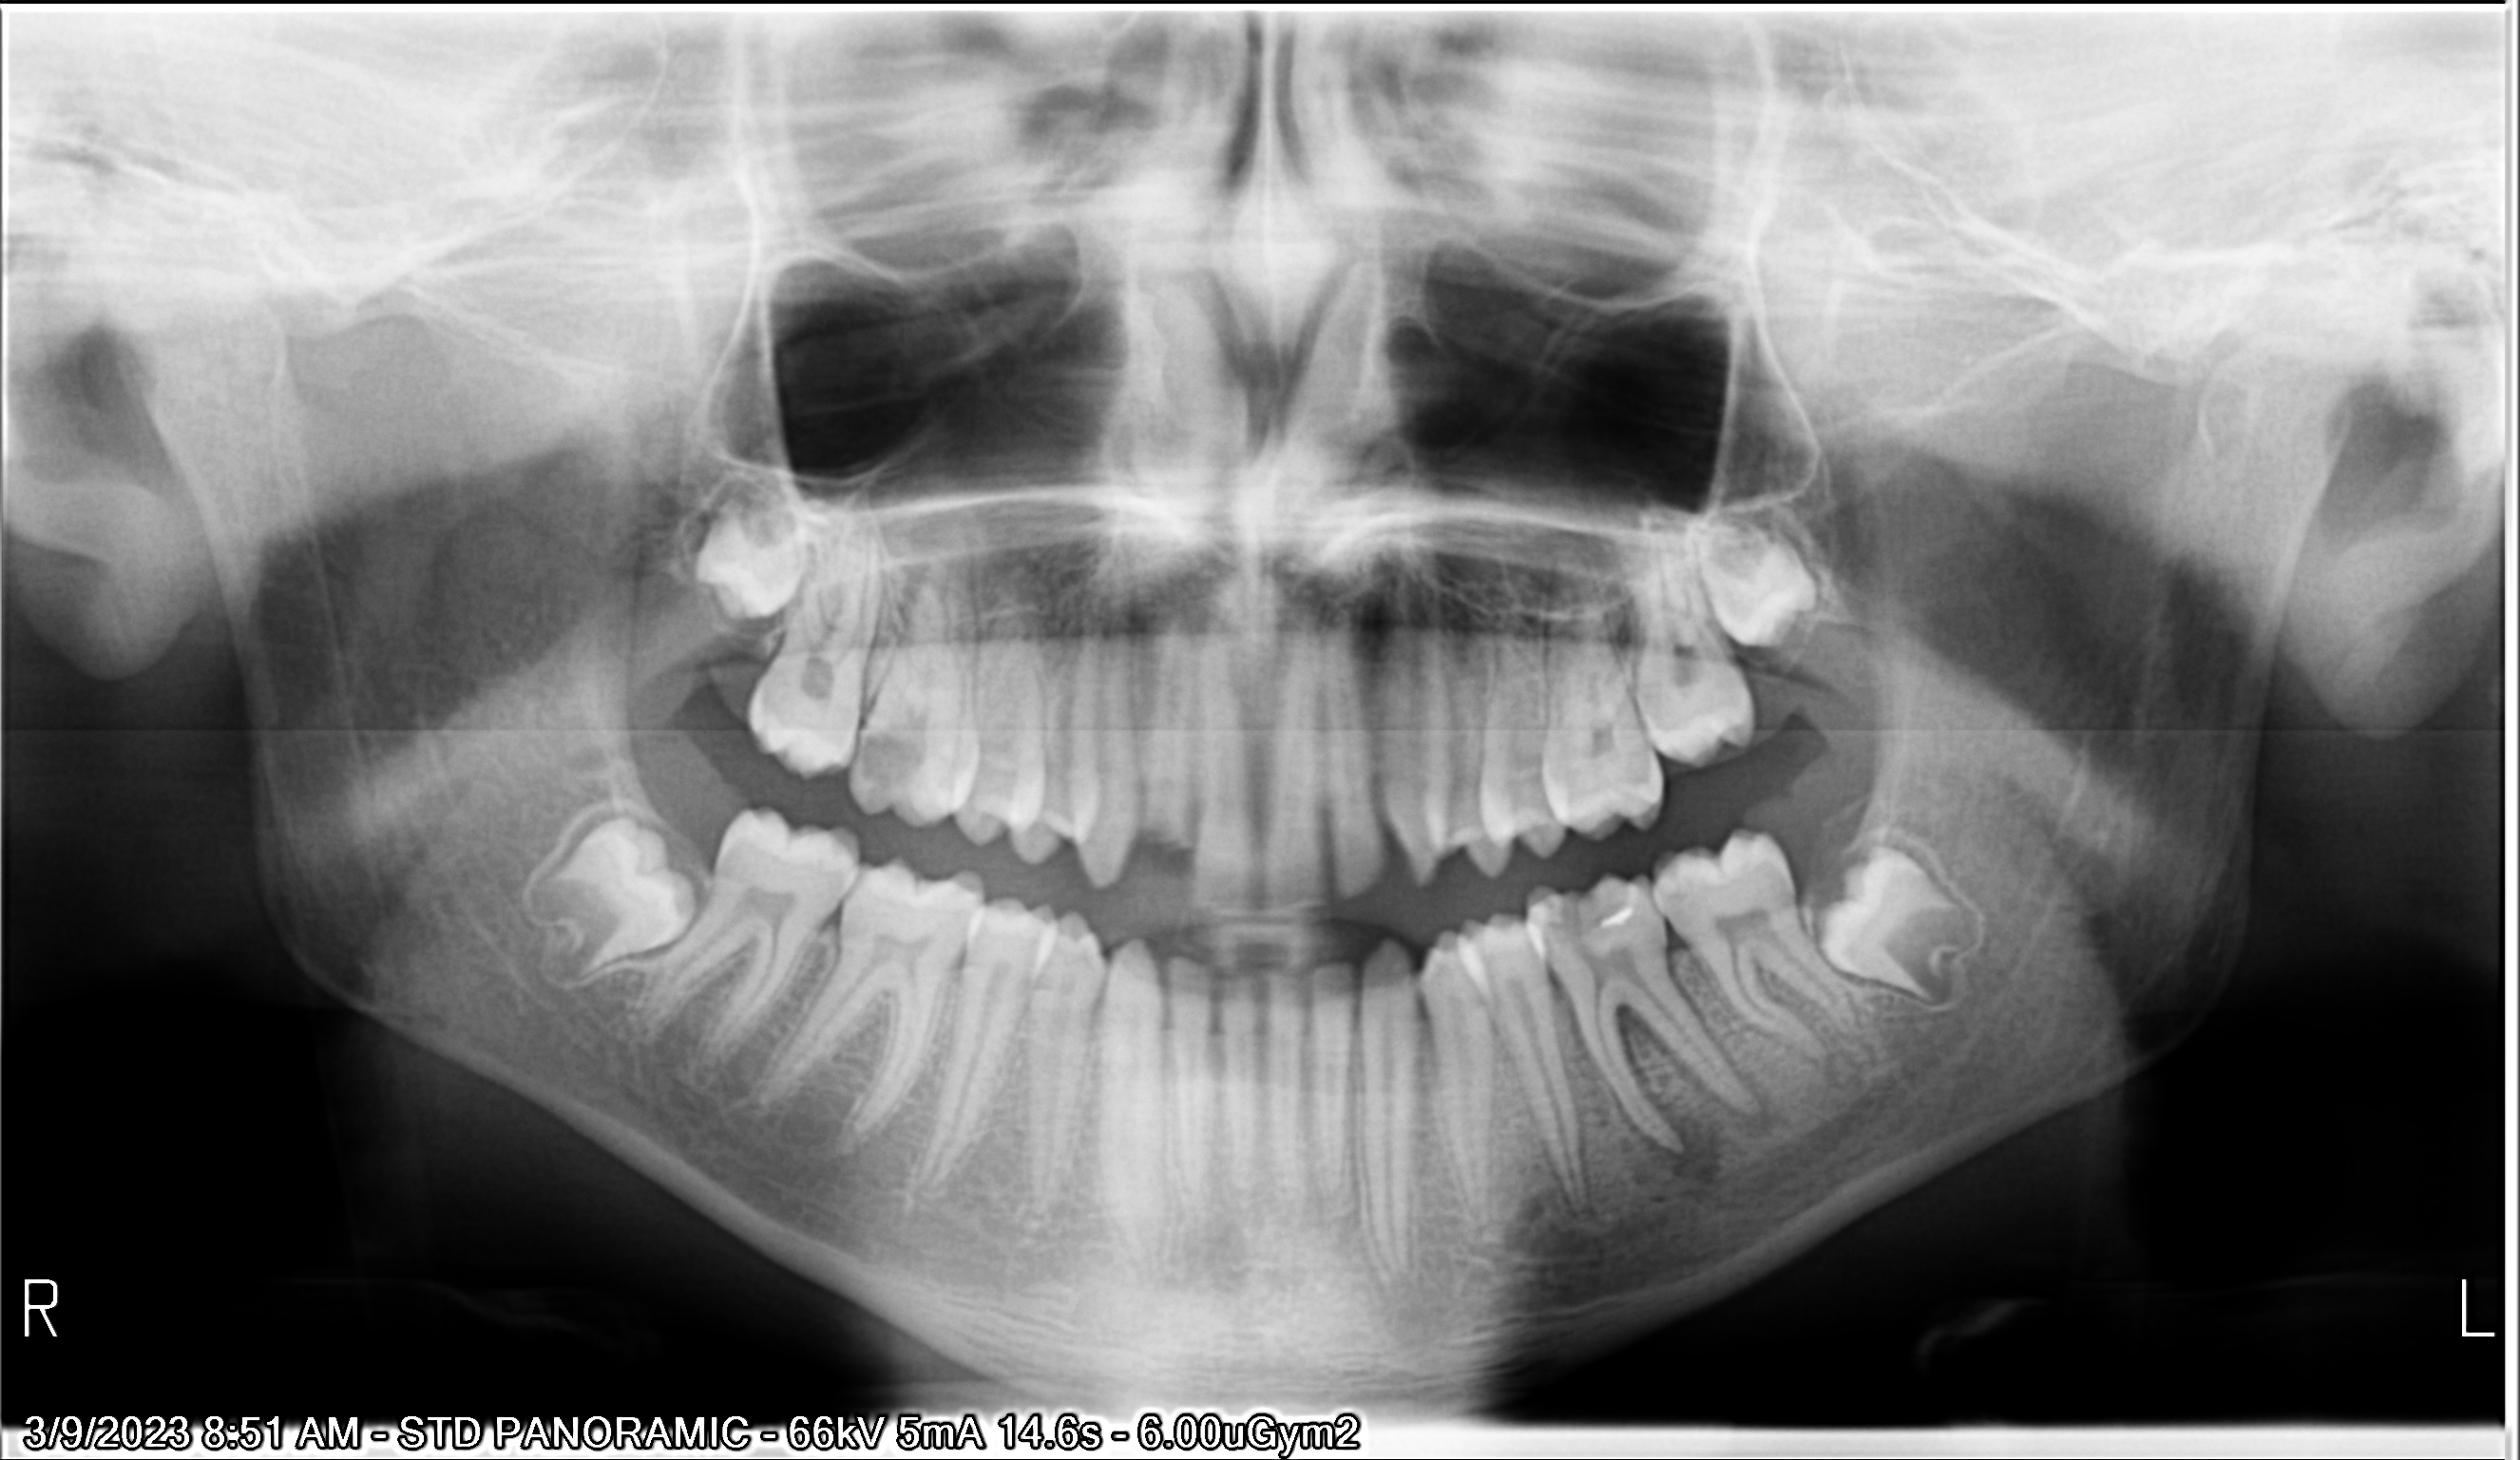CAR: (1535, 881, 1634, 959), (849, 721, 936, 808), (1127, 815, 1198, 890)
IMT: (1791, 820, 2004, 1022), (514, 800, 717, 999), (1679, 492, 1848, 674), (681, 457, 835, 645)
